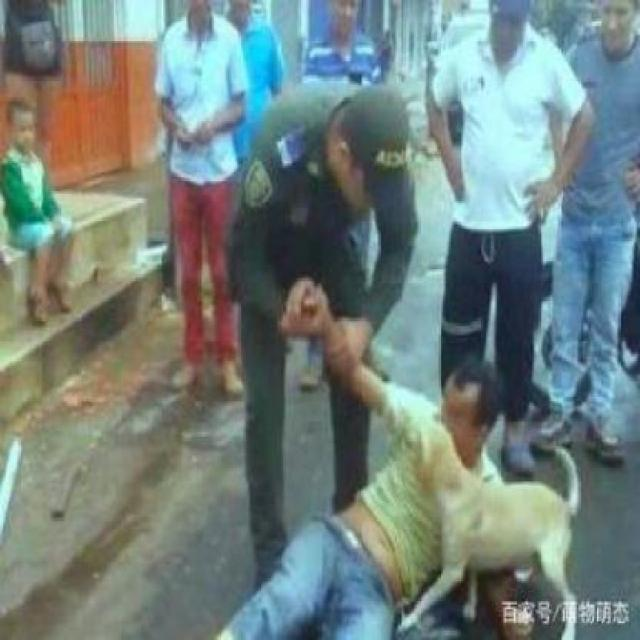fall: (102, 340, 530, 632)
